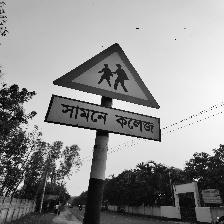College-in-front: (48, 38, 166, 147)
